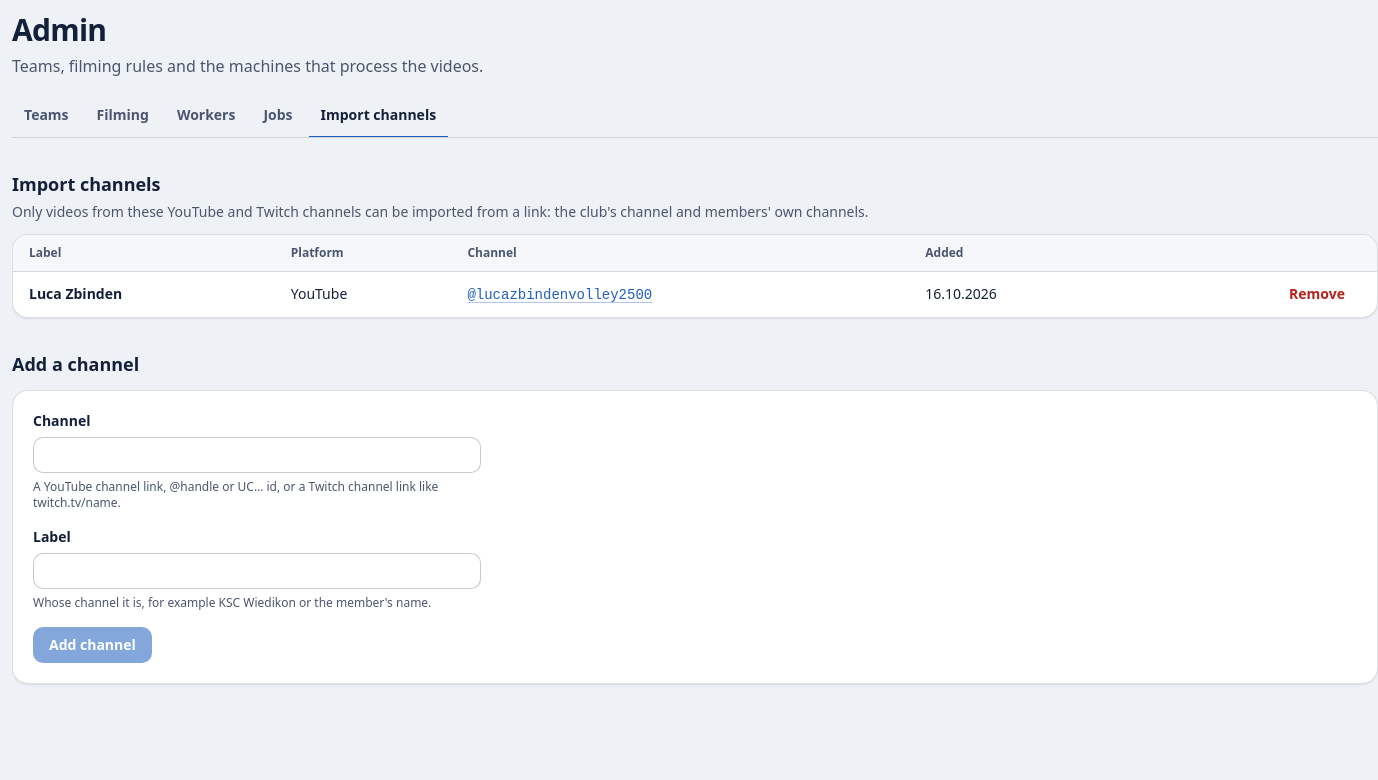
Scenario: AdminImportChannelsPage › adds a channel
expect the text "Luca Zbinden" is shown: met, box 29,284 -> 122,303
expect the button "Add channel" is disabled: met, box 33,627 -> 152,663
Type " @KSCWiedikon " into the field labelled "Channel" at (257, 455), box 33,437 -> 481,473
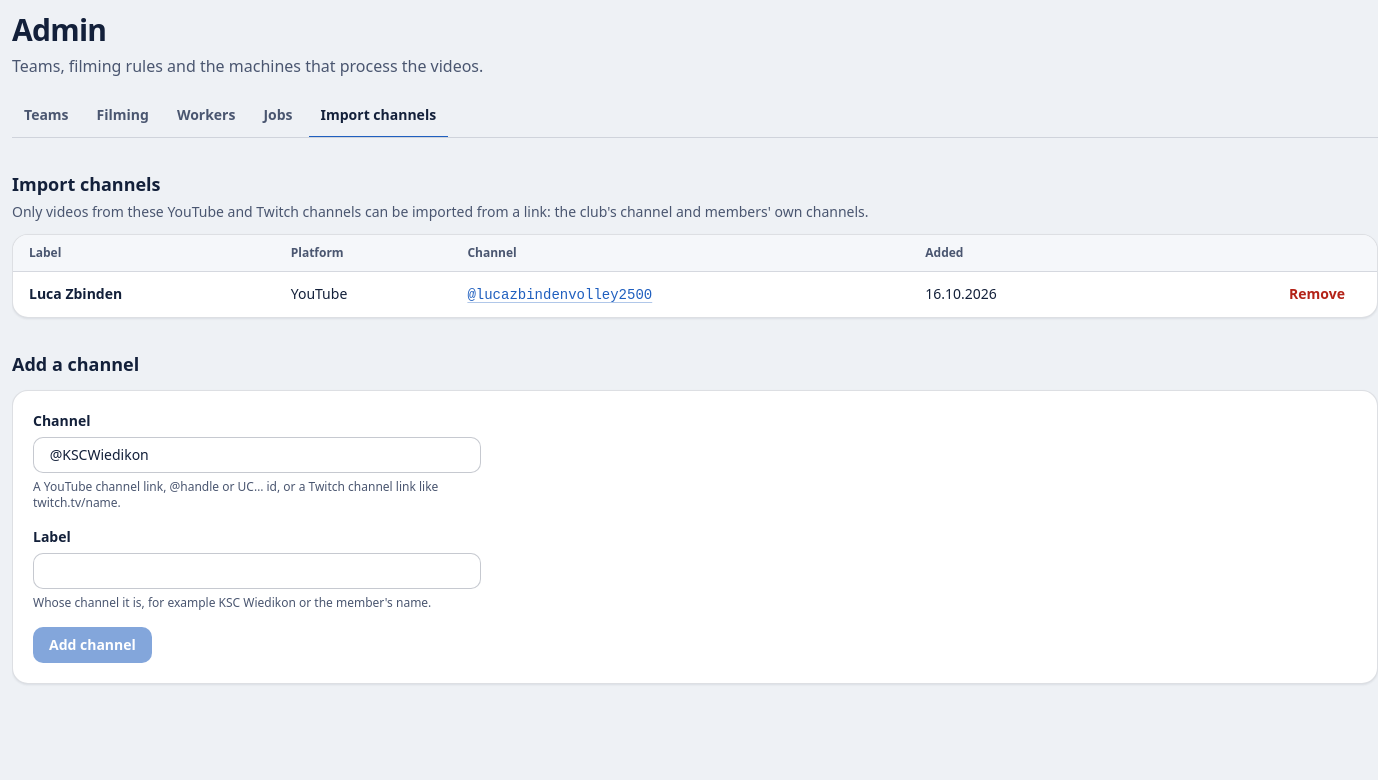
Type "KSC Wiedikon" into the field labelled "Label" at (257, 571), box 33,553 -> 481,589
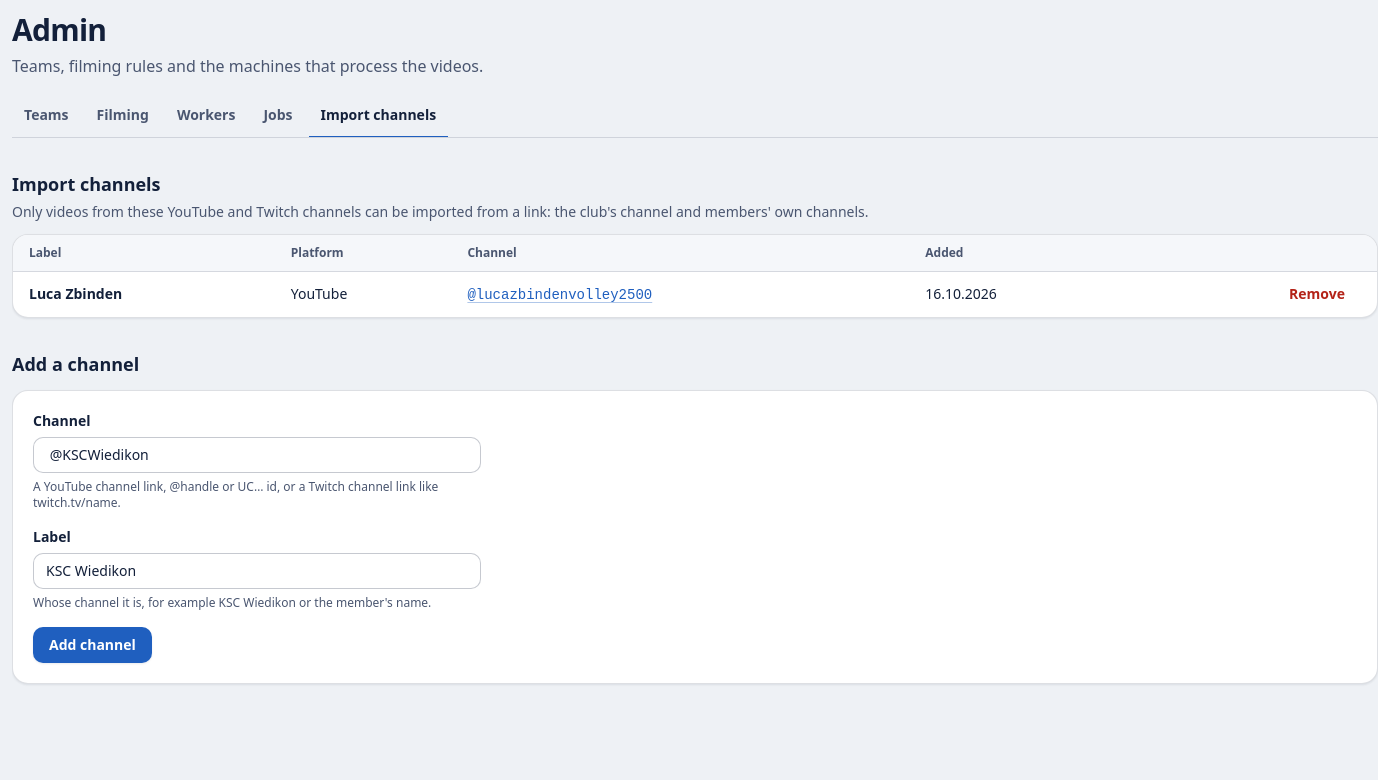
Click the button "Add channel" at (92, 645), box 33,627 -> 152,663
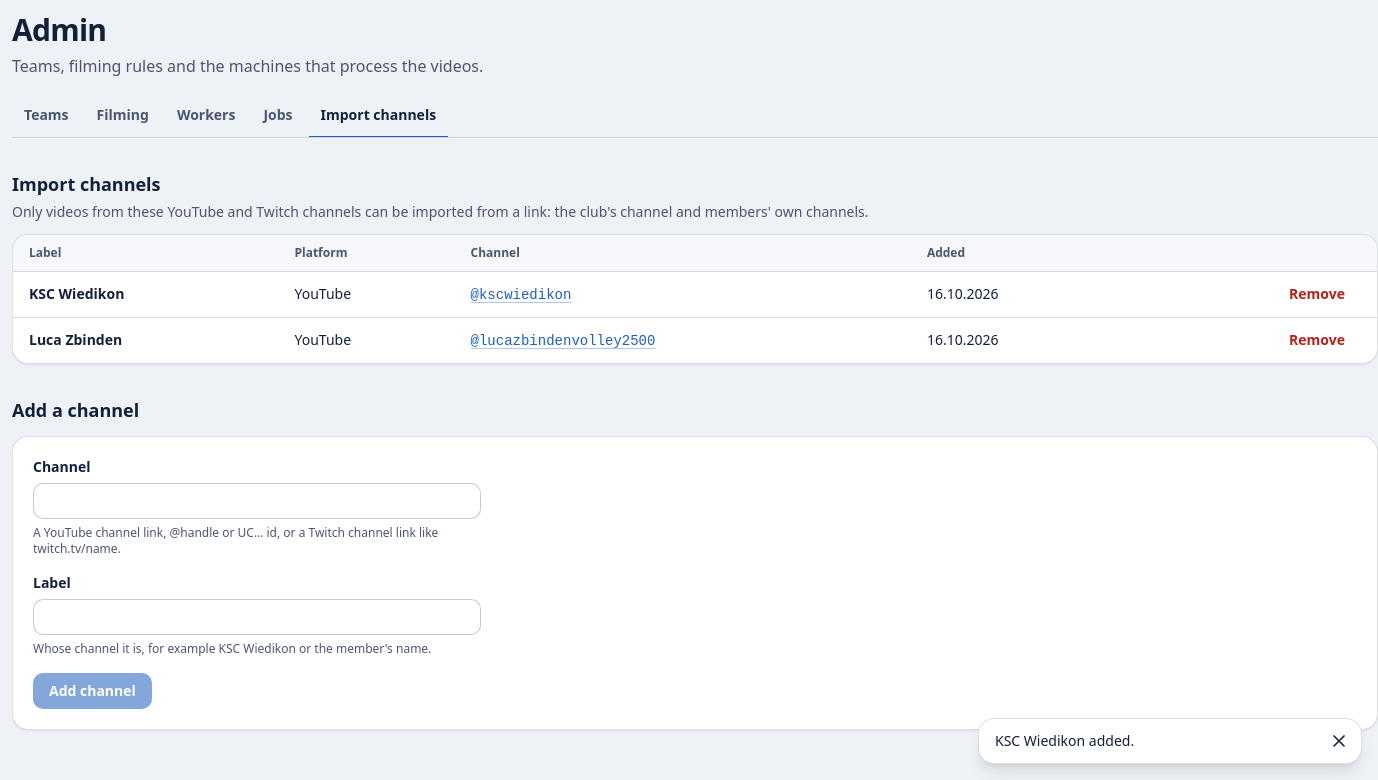
expect the text "KSC Wiedikon added." is shown: met, box 995,731 -> 1134,750
expect the field labelled "Channel" is empty: met, box 33,483 -> 481,519
